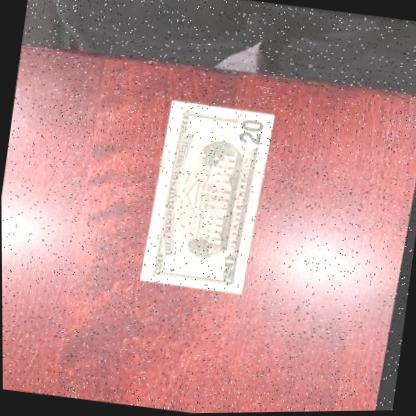dollar_back: (139, 96, 277, 296)
